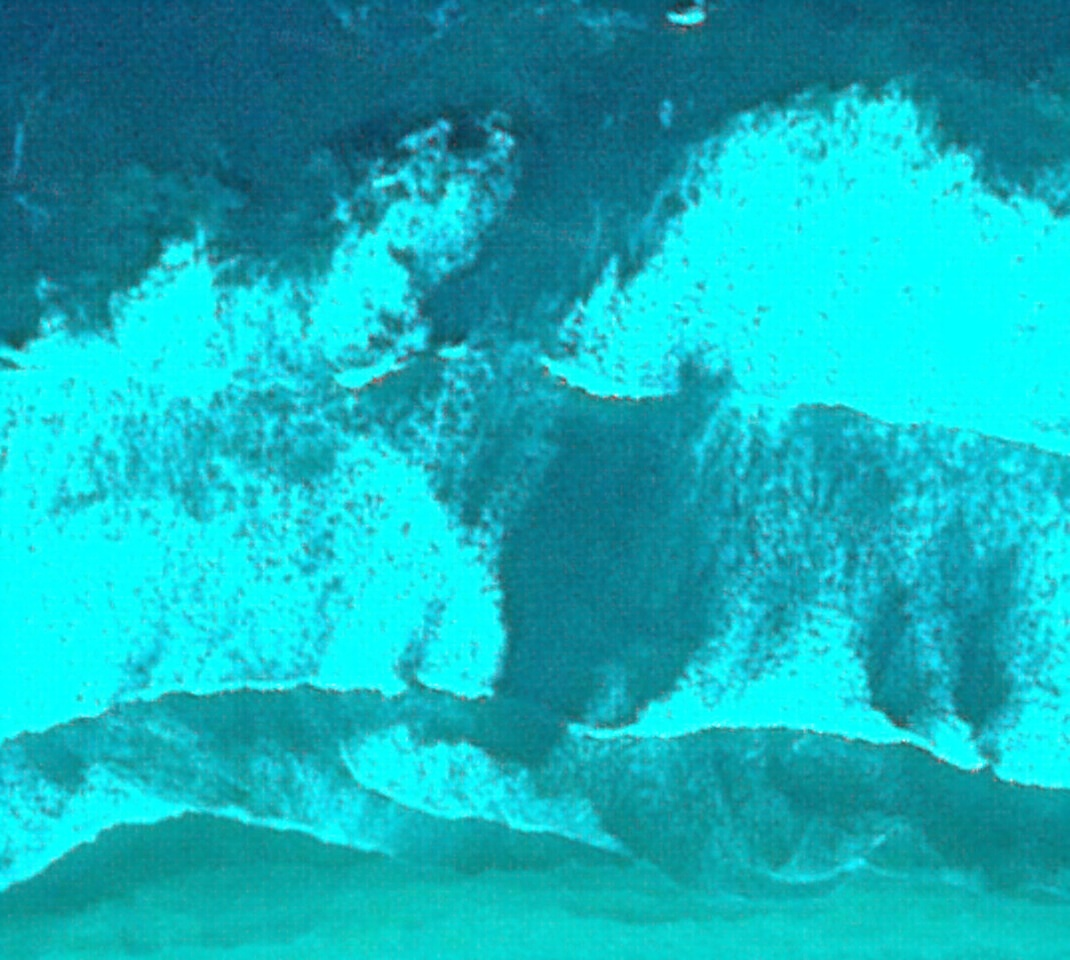rip_current: (381, 81, 746, 785)
